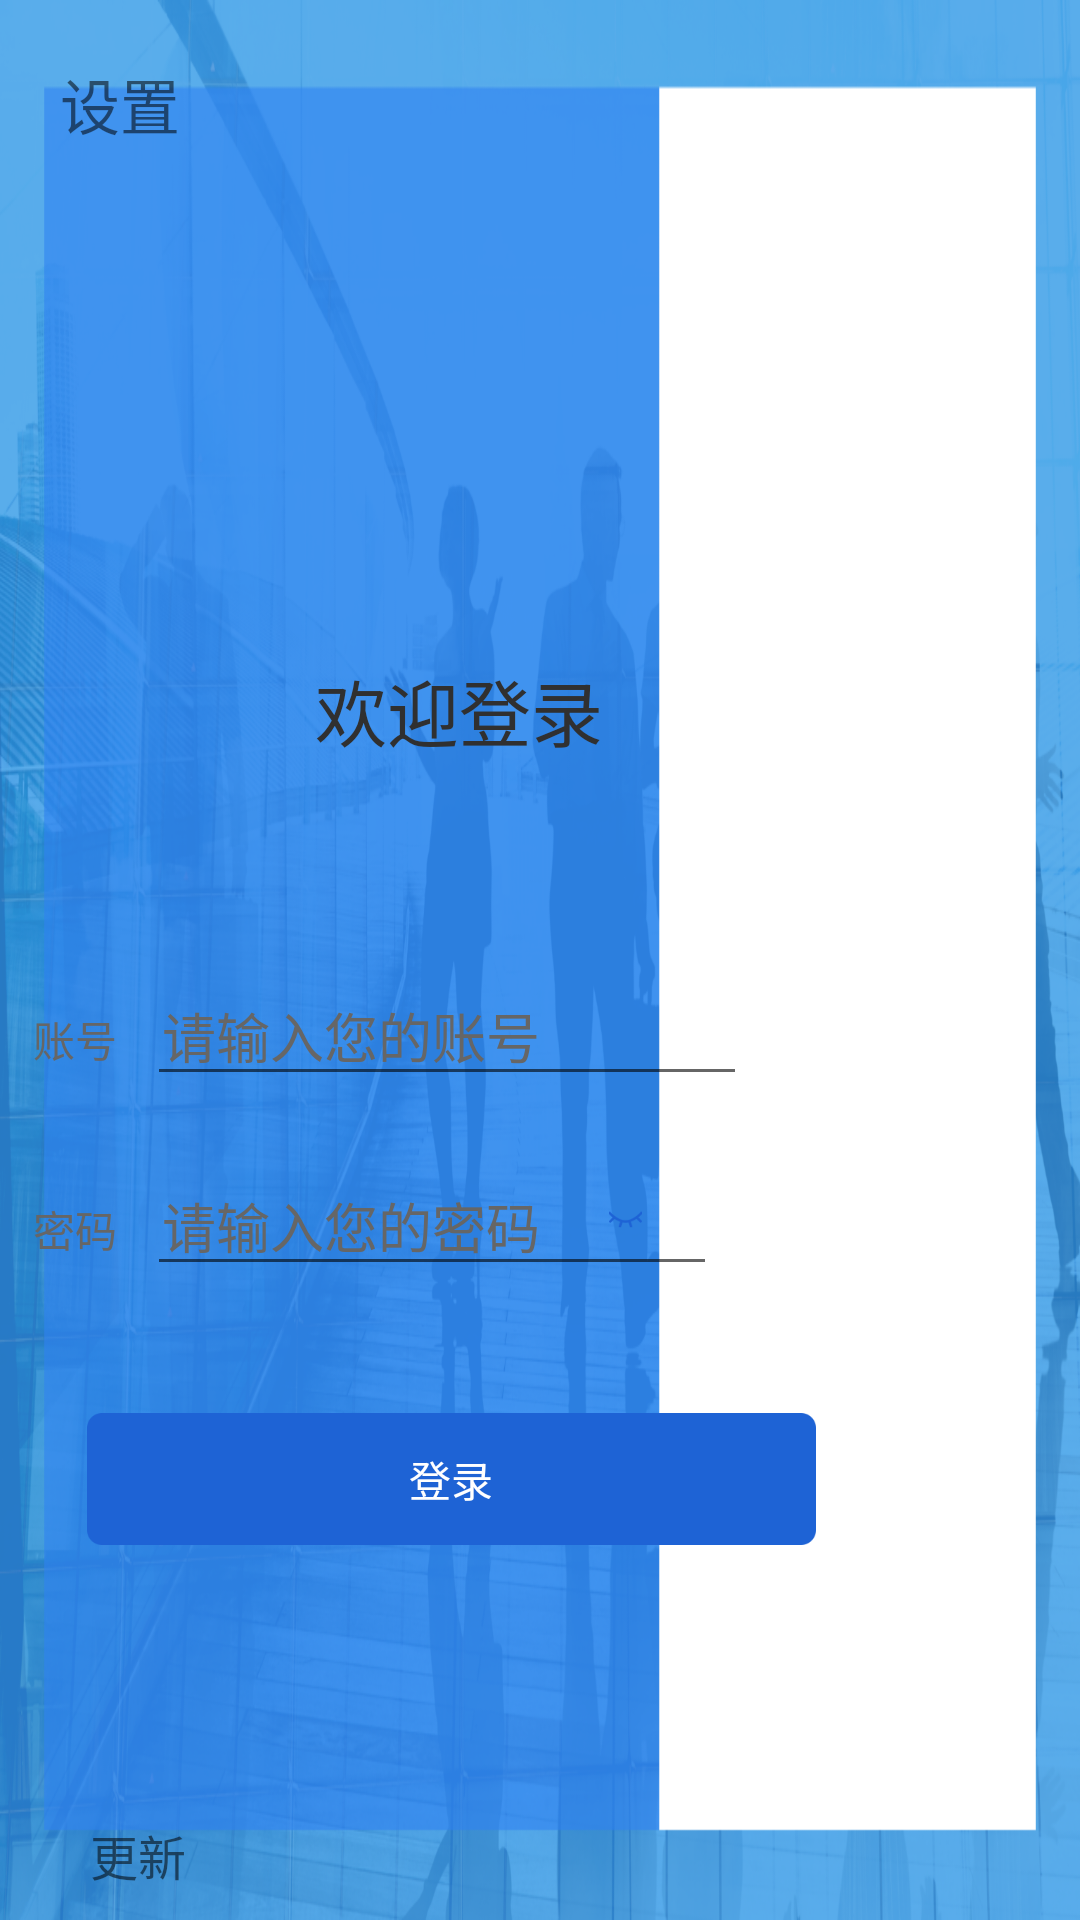

Icons on this 1080 x 1920 Android screen, each with the point to tap as [x,y]:
login ps: [625,1219]
